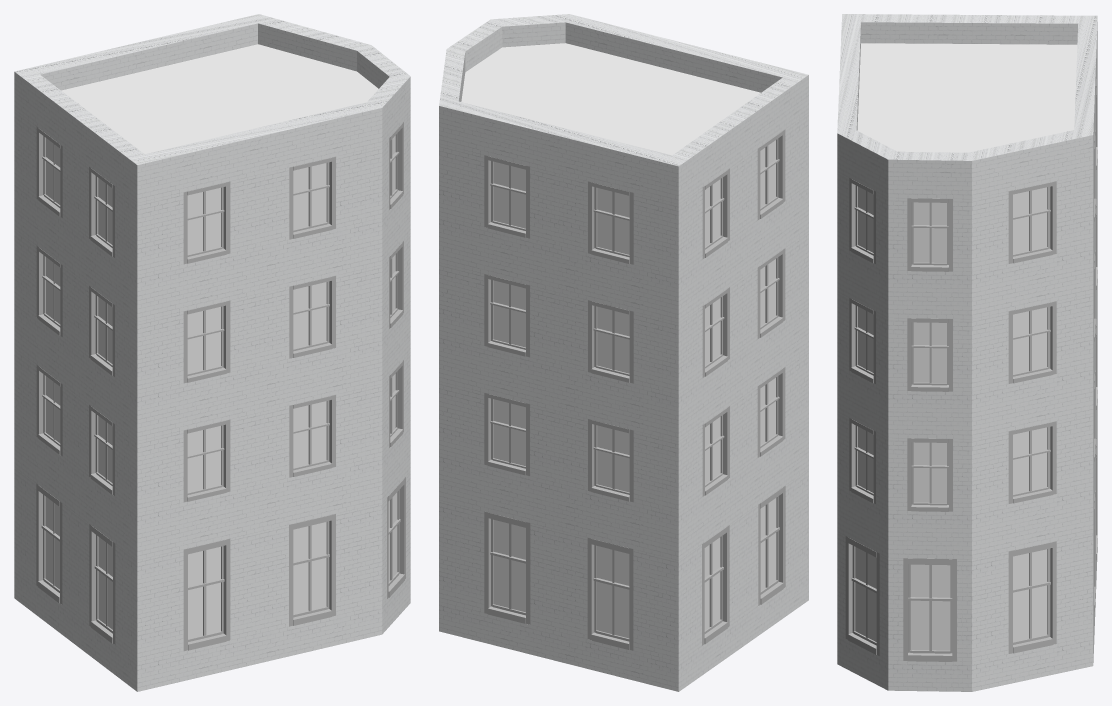
The model's file is clohbw7ua037l4p02zjlc7e6h_0.glb.
3 views of the same model, side by side, from view 1: azimuth 30°, elevation 25°; view 2: azimuth 150°, elevation 25°; view 3: azimuth 270°, elevation 25° (orthographic).
Parts seen in each view (by area): view 1: mesh_Brick, mesh_Rim, mesh_Glass, mesh_CityEnginePBRShader; view 2: mesh_Brick, mesh_Rim, mesh_Glass, mesh_CityEnginePBRShader; view 3: mesh_Brick, mesh_Rim, mesh_CityEnginePBRShader, mesh_Glass.
Part boxes in pixels (<box>): mesh_Brick: <box>14,14,410,691</box>; mesh_Rim: <box>36,122,405,651</box>; mesh_Glass: <box>45,135,397,638</box>; mesh_CityEnginePBRShader: <box>61,44,378,153</box>; mesh_Brick: <box>439,14,808,691</box>; mesh_Rim: <box>484,129,785,650</box>; mesh_Glass: <box>493,140,776,638</box>; mesh_CityEnginePBRShader: <box>461,43,760,155</box>; mesh_Brick: <box>837,14,1097,691</box>; mesh_Rim: <box>845,78,1097,661</box>; mesh_CityEnginePBRShader: <box>857,43,1077,152</box>; mesh_Glass: <box>855,186,1047,650</box>.
Bounding box in the file's own units: 9.04 × 15.23 × 6.77.
Materials: 4 (1 with a texture image).
